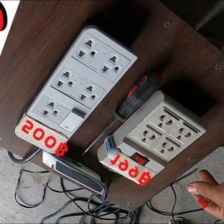three_eye_plug: (9, 17, 141, 158), (92, 85, 210, 187)
